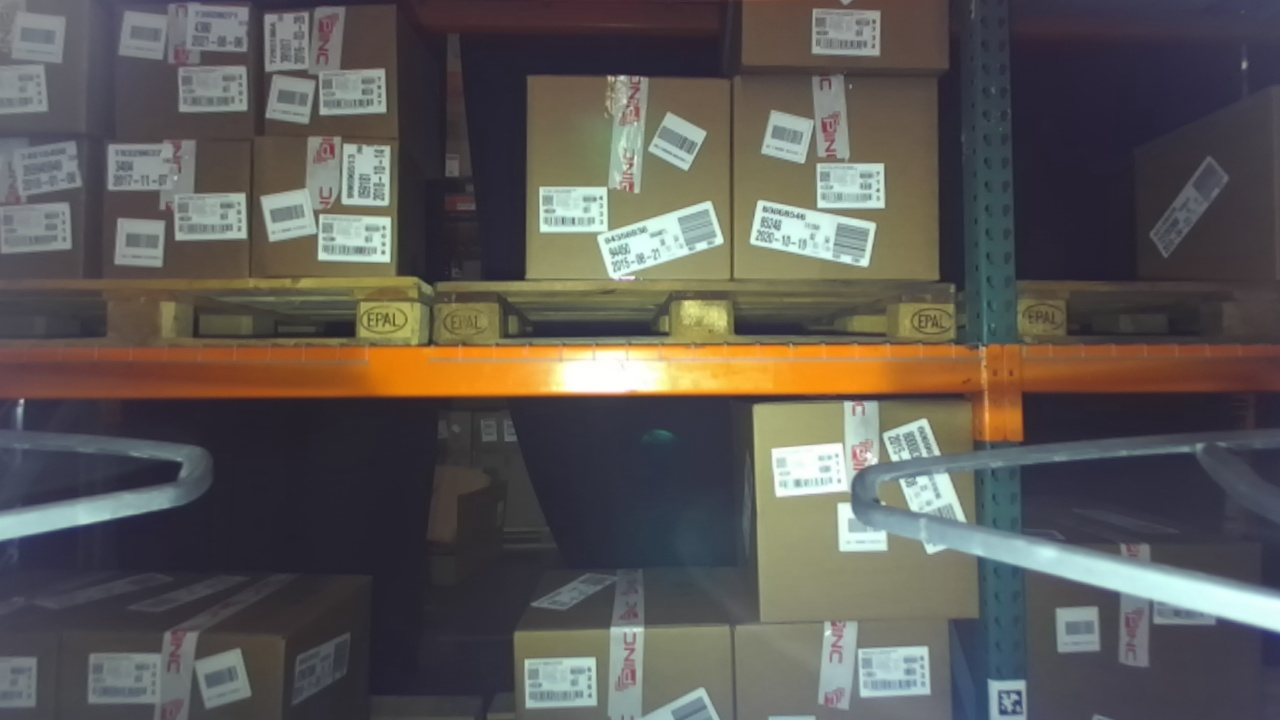box: (727, 383, 996, 638), (499, 49, 756, 308), (719, 50, 973, 303), (69, 116, 272, 295), (229, 119, 412, 298), (80, 1, 271, 151), (240, 1, 413, 163)
